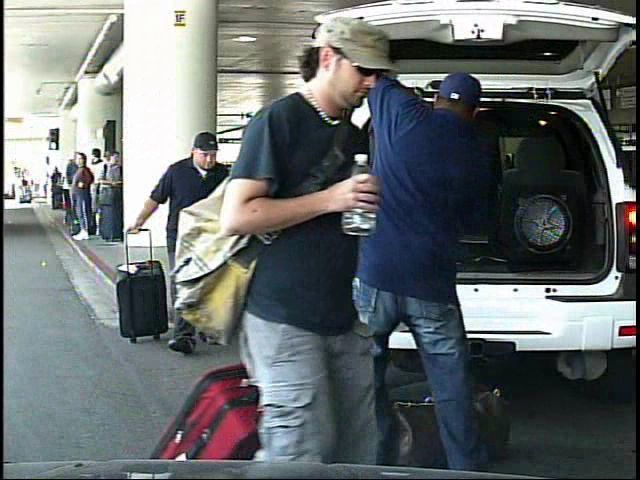person: (206, 18, 397, 480), (333, 43, 524, 477), (124, 125, 246, 357), (13, 174, 24, 205)
